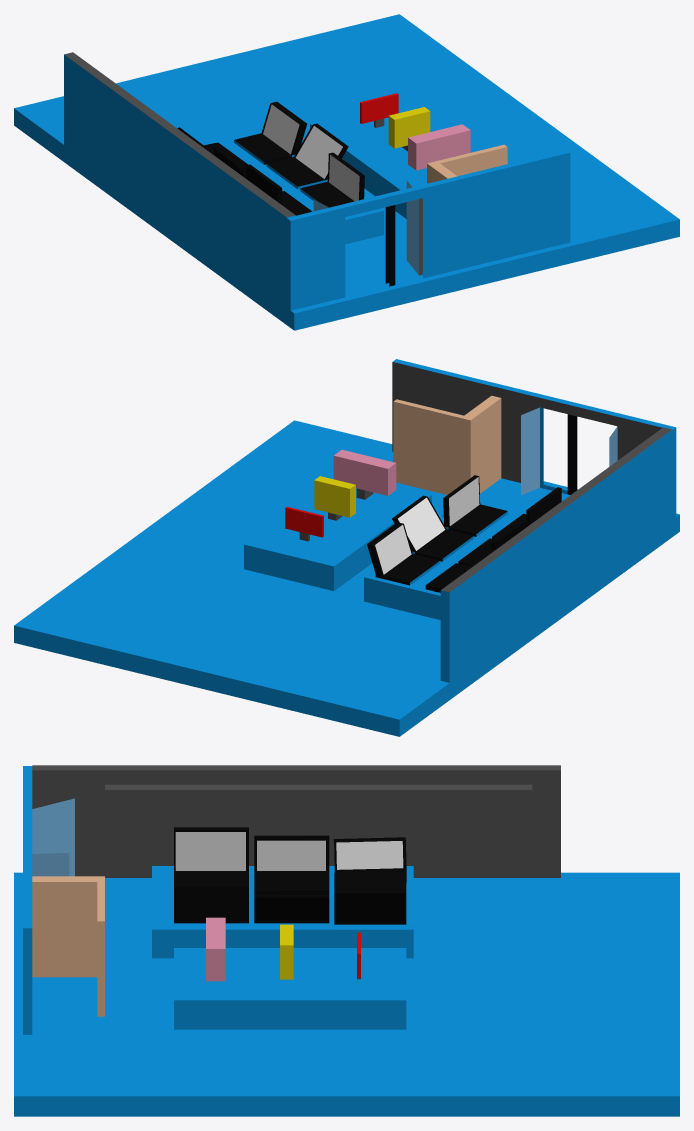
File: Laptop Area 2 .fbx
3 renders of one model, top to bottom at view 1: azimuth 30°, elevation 25°; view 2: azimuth 150°, elevation 25°; view 3: azimuth 270°, elevation 25°, orthographic. The views are drawn at different scales.
Visible parts, largest first — view 1: Cube.004; view 2: Cube.004; view 3: Cube.004.
Boxes of the visible parts, x1,y1,x2,y2 form: Cube.004: (14, 14, 679, 330); Cube.004: (14, 359, 679, 736); Cube.004: (14, 765, 679, 1116).
Size of the model in its own units: 12019 by 3211 by 15139.
